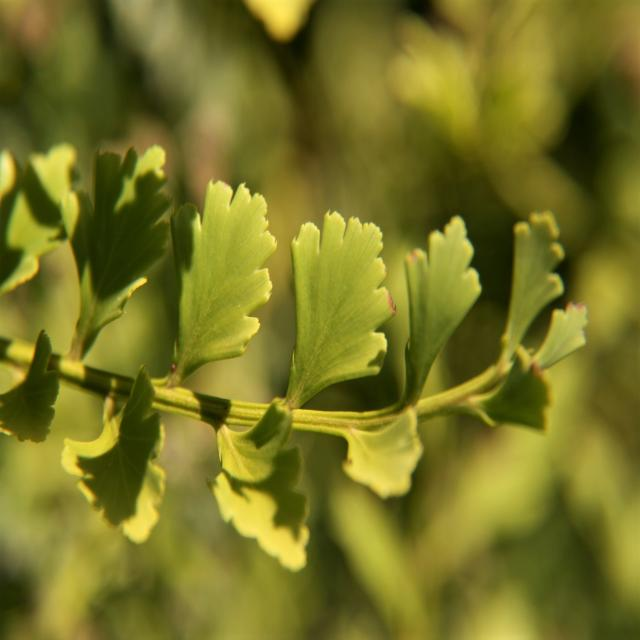Phyllocladus trichomanoides: (1, 137, 598, 569)
